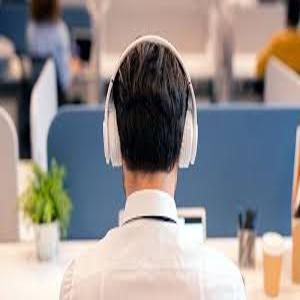Headphones: (103, 35, 199, 169)
